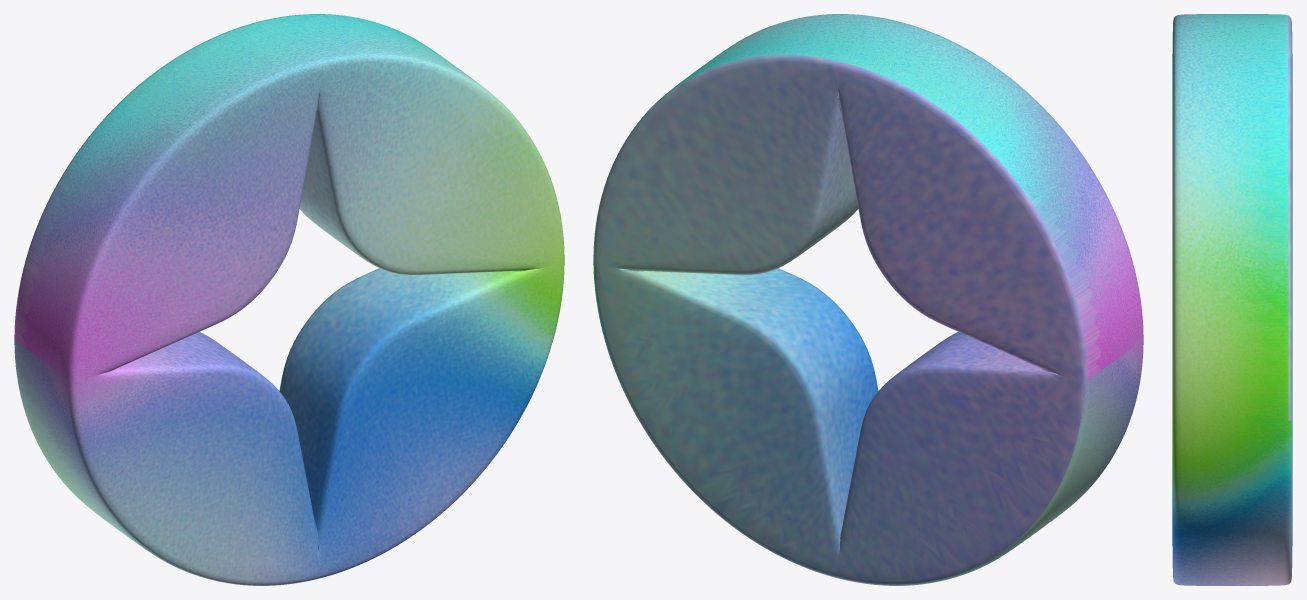
File: y2k-star.glb
3 renders of one model, left to right at view 1: azimuth 30°, elevation 25°; view 2: azimuth 150°, elevation 25°; view 3: azimuth 270°, elevation 25°, orthographic.
Parts seen in each view (by area): view 1: Circle; view 2: Circle; view 3: Circle.
Boxes of the visible parts, x1=… form: Circle: x1=14, y1=14, x2=564, y2=585; Circle: x1=593, y1=14, x2=1143, y2=585; Circle: x1=1172, y1=14, x2=1292, y2=585.
Bounding box in the file's own units: 1.92 × 1.92 × 0.4029.
Materials: 1 (1 with a texture image).
